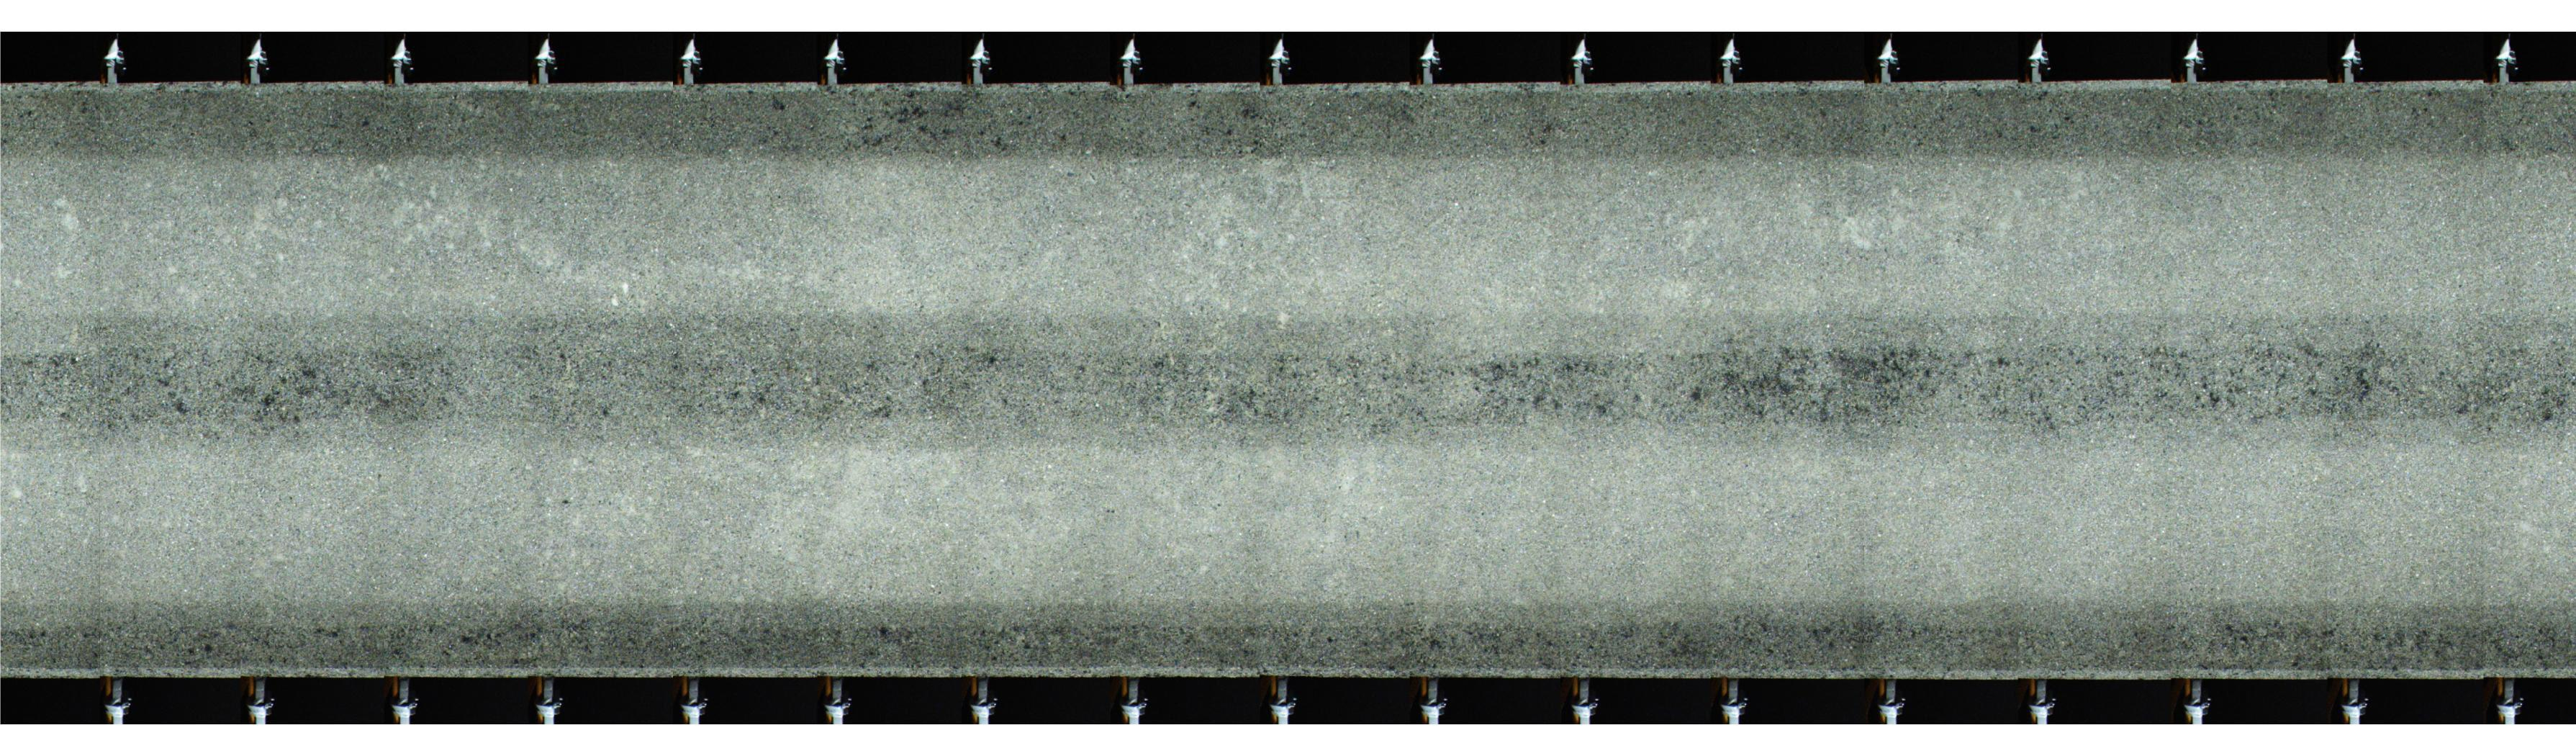concrete: (2, 84, 2569, 667)
